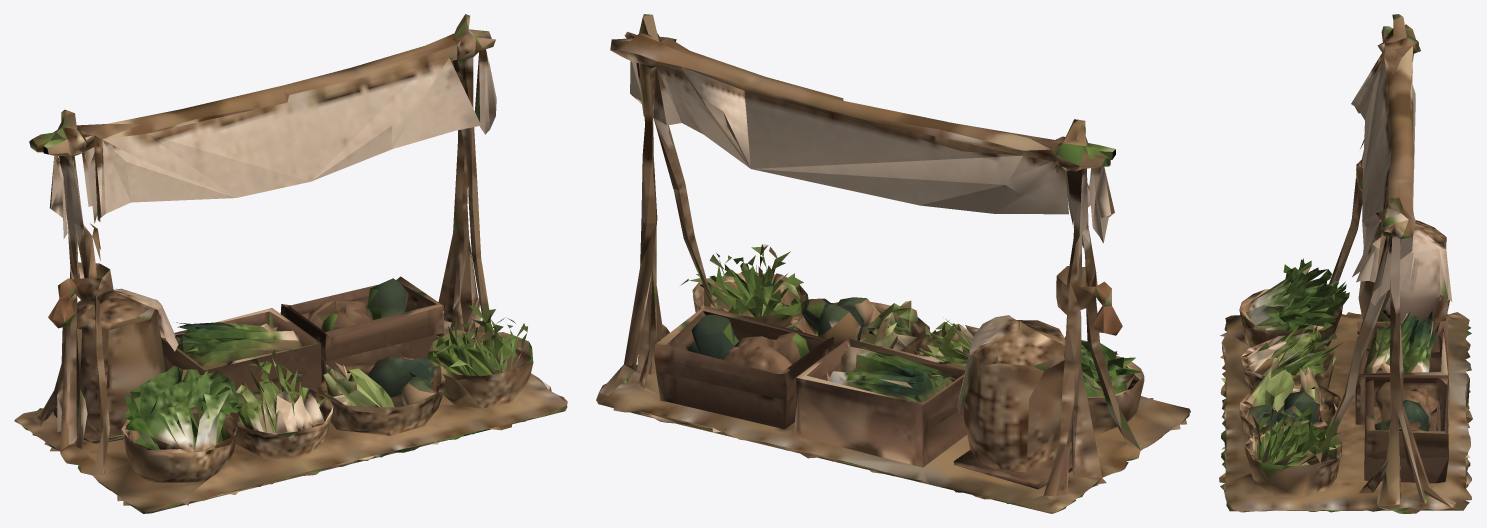
Rendered from 02_Ground_Cloth_Vegetable_Stall_LOD2.fbx.
3 views of the same model, side by side, from view 1: azimuth 30°, elevation 25°; view 2: azimuth 150°, elevation 25°; view 3: azimuth 270°, elevation 25° (orthographic). The views are drawn at different scales.
Parts seen in each view (by area): view 1: 02_Ground_Cloth_Vegetable_Stall_L2; view 2: 02_Ground_Cloth_Vegetable_Stall_L2; view 3: 02_Ground_Cloth_Vegetable_Stall_L2.
Boxes of the visible parts, x1,y1,x2,y2 form: 02_Ground_Cloth_Vegetable_Stall_L2: (14, 14, 567, 513); 02_Ground_Cloth_Vegetable_Stall_L2: (596, 14, 1190, 513); 02_Ground_Cloth_Vegetable_Stall_L2: (1219, 14, 1472, 513).
Bounding box in the file's own units: 3.29 × 2.3 × 1.69.
